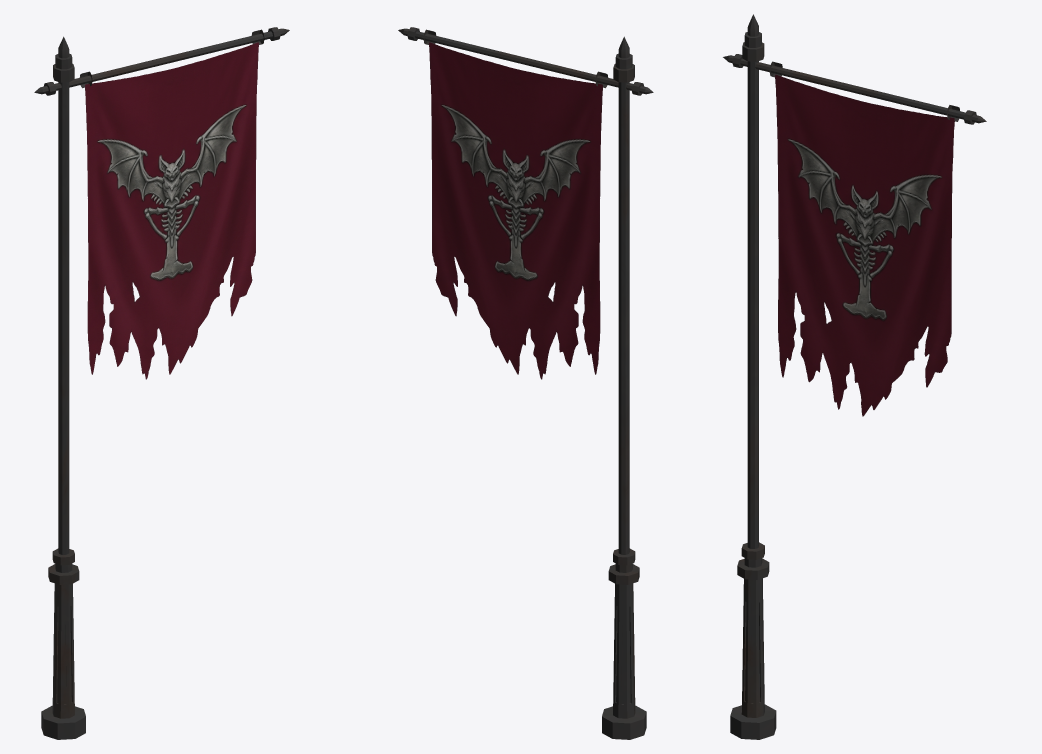
The model's file is flag001.fbx.
3 renders of one model, left to right at view 1: azimuth 30°, elevation 25°; view 2: azimuth 150°, elevation 25°; view 3: azimuth 330°, elevation 25°, orthographic. The views are drawn at different scales.
Visible parts, largest first — view 1: Plane.005, Plane.006, Plane.008; view 2: Plane.005, Plane.006, Plane.008; view 3: Plane.005, Plane.006, Plane.008.
Part boxes in pixels (x1,y1,x2,y2): Plane.005: (85,42,258,379); Plane.006: (41,36,85,739); Plane.008: (34,27,289,95); Plane.005: (429,42,602,379); Plane.006: (602,36,646,739); Plane.008: (398,27,653,95); Plane.005: (775,74,954,416); Plane.006: (730,14,776,739); Plane.008: (723,54,986,124).
Size of the model in its own units: 200 by 25.39 by 420.
